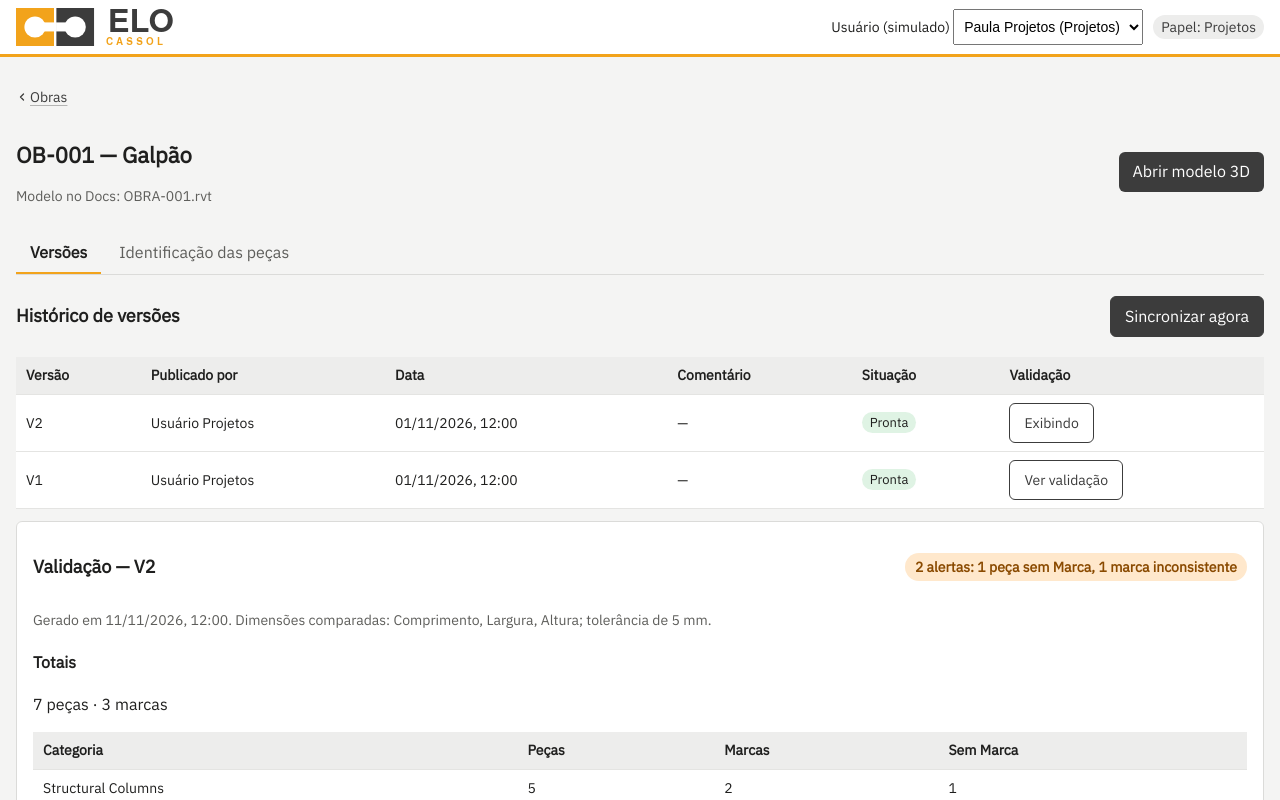
Scenario: Painel Validação › contador verde quando não há alertas; troca de versão pelo botão
Expected: the text "2 alertas: 1 peça sem Marca, 1 marca inconsistente" is shown, [905,553,1247,581]
Click the button with aria-label "Validação da V1". click: {"x": 1066, "y": 480}
box: [1009,460,1123,500]
(page scrolled)
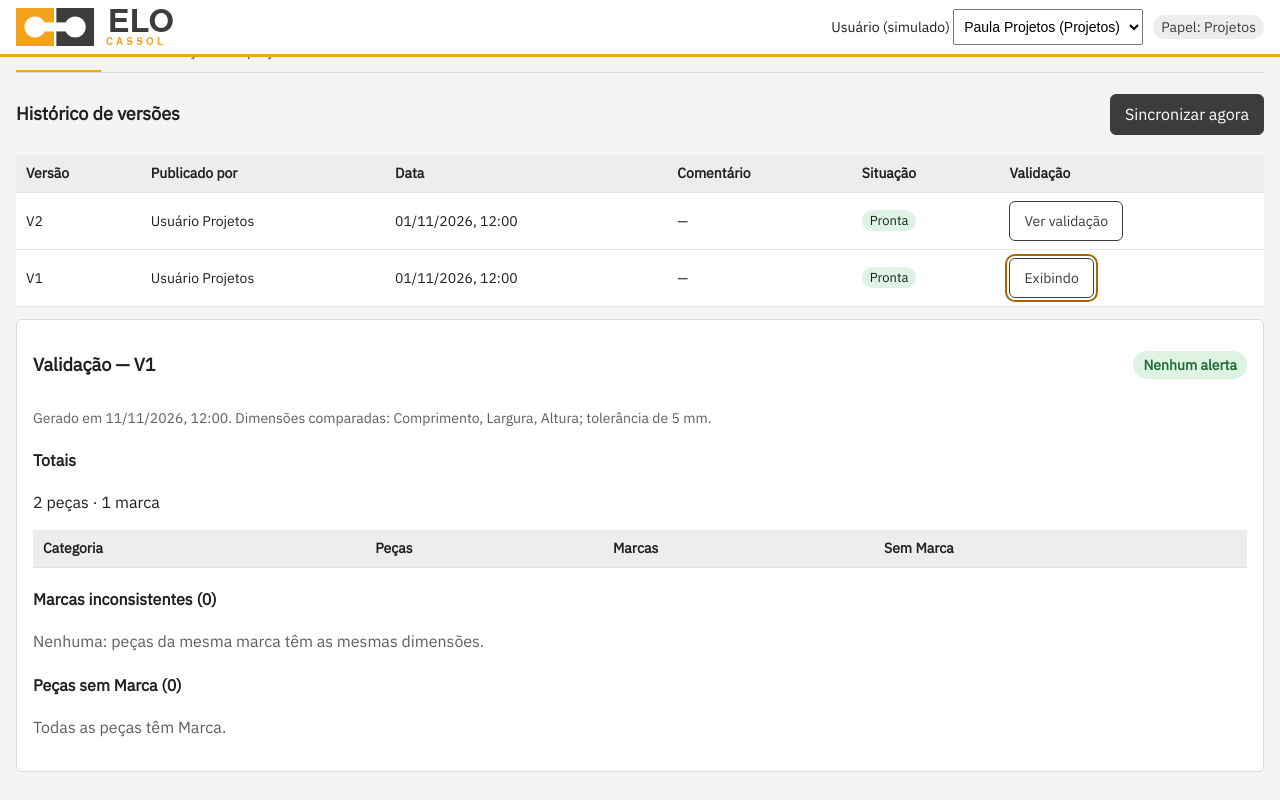
Result: the heading "Validação — V1" is shown at [33,354,156,376]
Result: the text "Todas as peças têm Marca." is shown at [33,717,226,737]
